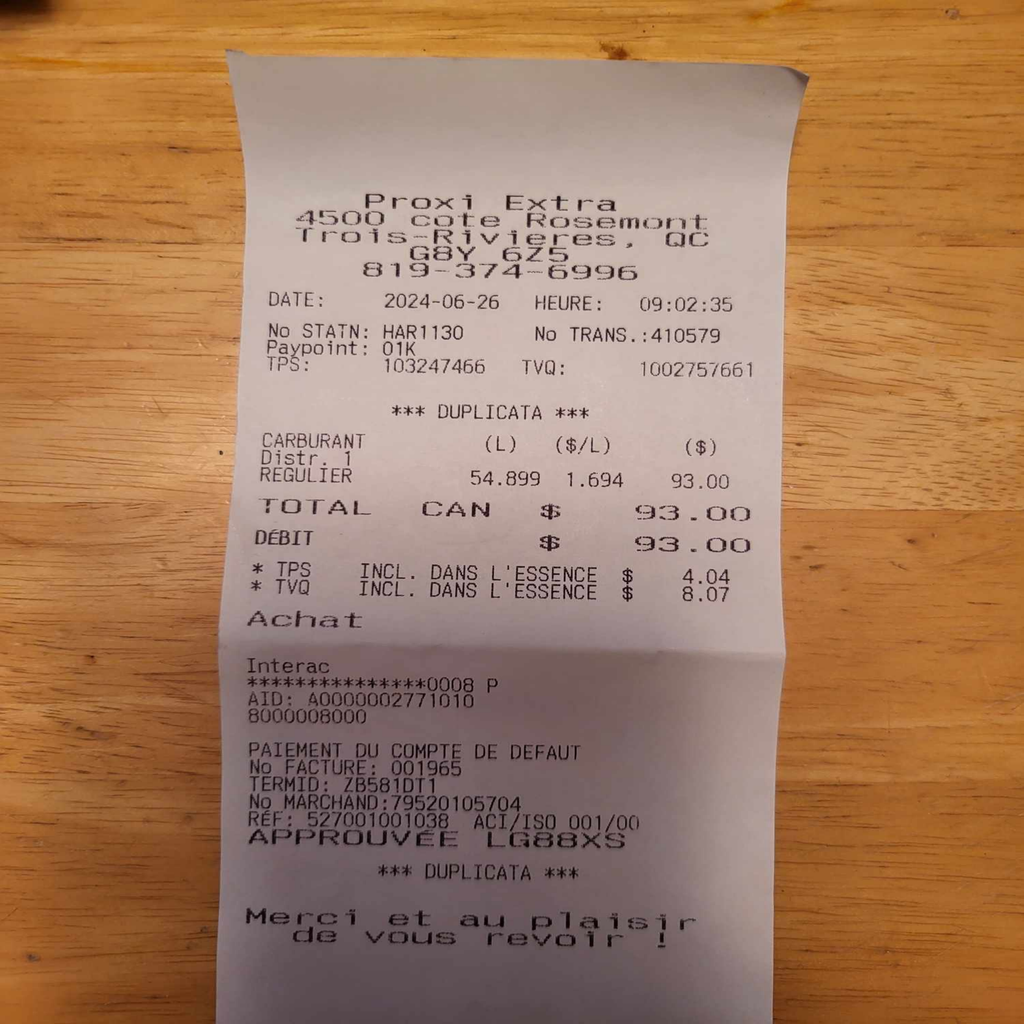recipt: (214, 57, 800, 1020)
